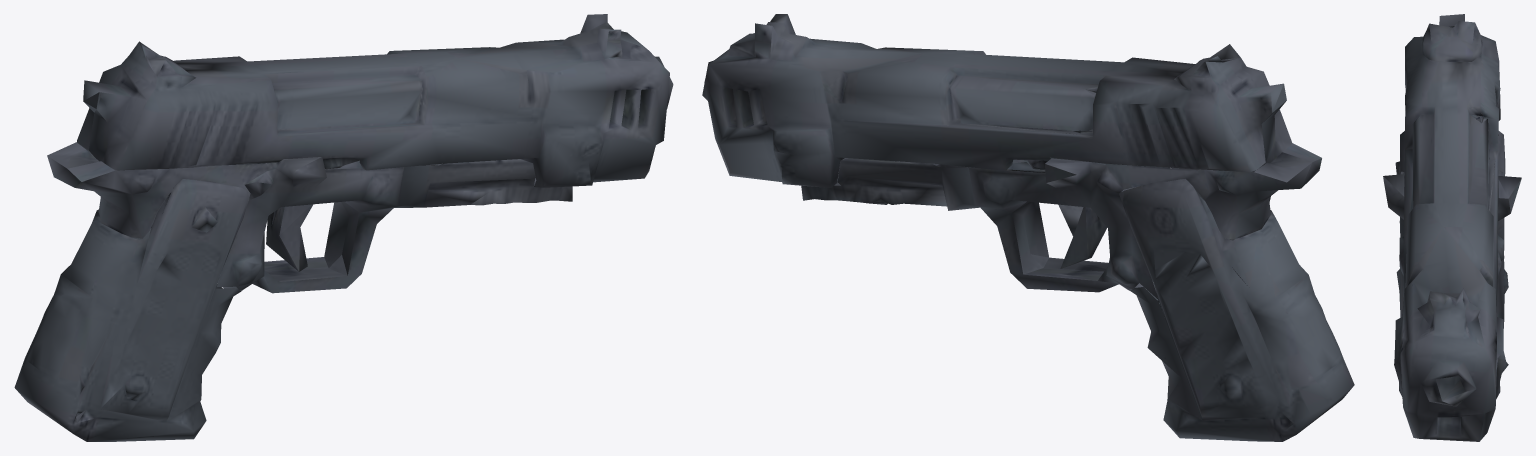
The model's file is coin-blaster.glb.
The picture shows the model from 3 angles, left to right: view 1: azimuth 30°, elevation 25°; view 2: azimuth 150°, elevation 25°; view 3: azimuth 270°, elevation 25°; orthographic projection. The views are drawn at different scales.
Parts seen in each view (by area): view 1: HMH Weapon | coin-blaster; view 2: HMH Weapon | coin-blaster; view 3: HMH Weapon | coin-blaster.
Boxes of the visible parts, left/top/right/bottom form: HMH Weapon | coin-blaster: left=14, top=14, right=673, bottom=441; HMH Weapon | coin-blaster: left=702, top=14, right=1354, bottom=441; HMH Weapon | coin-blaster: left=1383, top=14, right=1521, bottom=441.
Bounding box in the file's own units: 0.2902 × 0.165 × 0.0603.
Materials: 1 (1 with a texture image).
